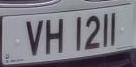1: (73, 12, 86, 59), (101, 9, 113, 54), (106, 9, 117, 52)
2: (84, 10, 103, 57)
H: (44, 15, 68, 60)
V: (23, 16, 44, 59)
